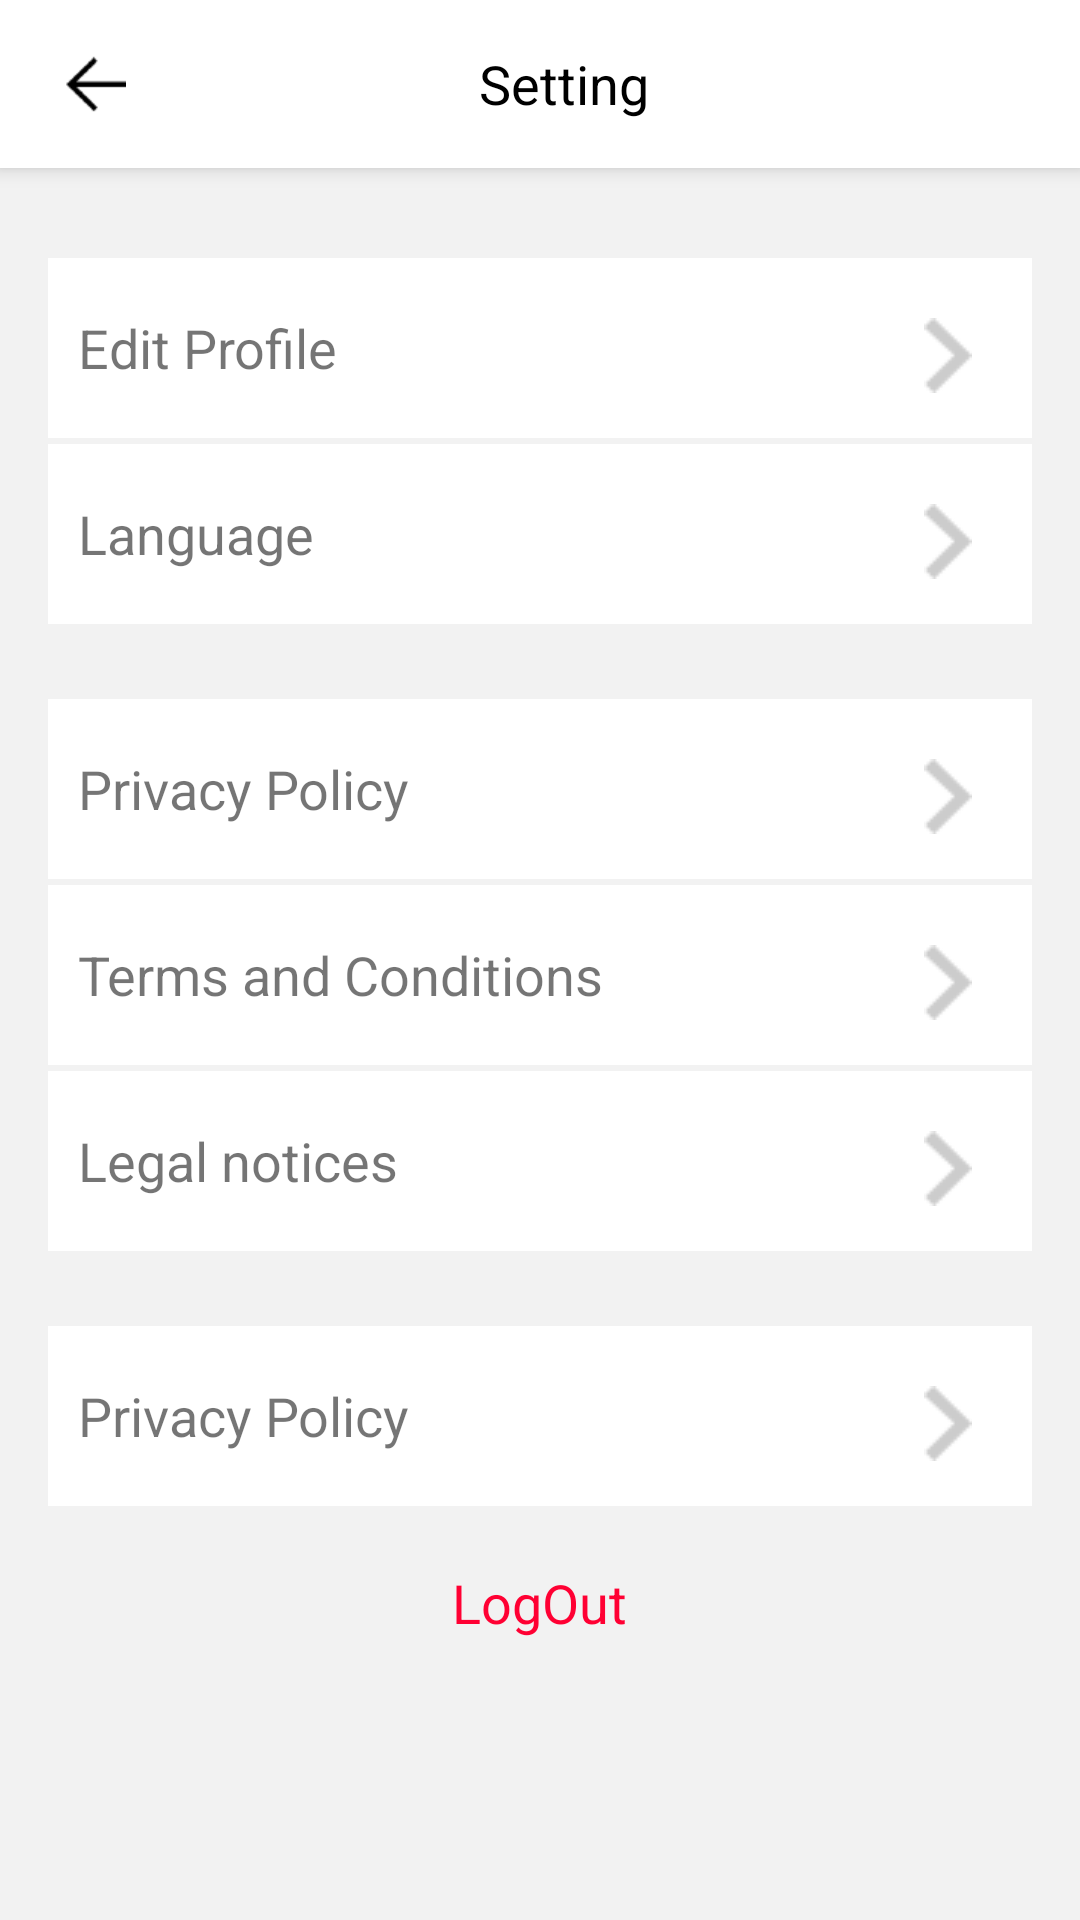

Icons on this 1080x1920 Android screen, each with the point to tap as [x,y]:
back arrow: [96,84]
next: [948,355], [948,541], [948,796], [948,982], [948,1168], [948,1423]
